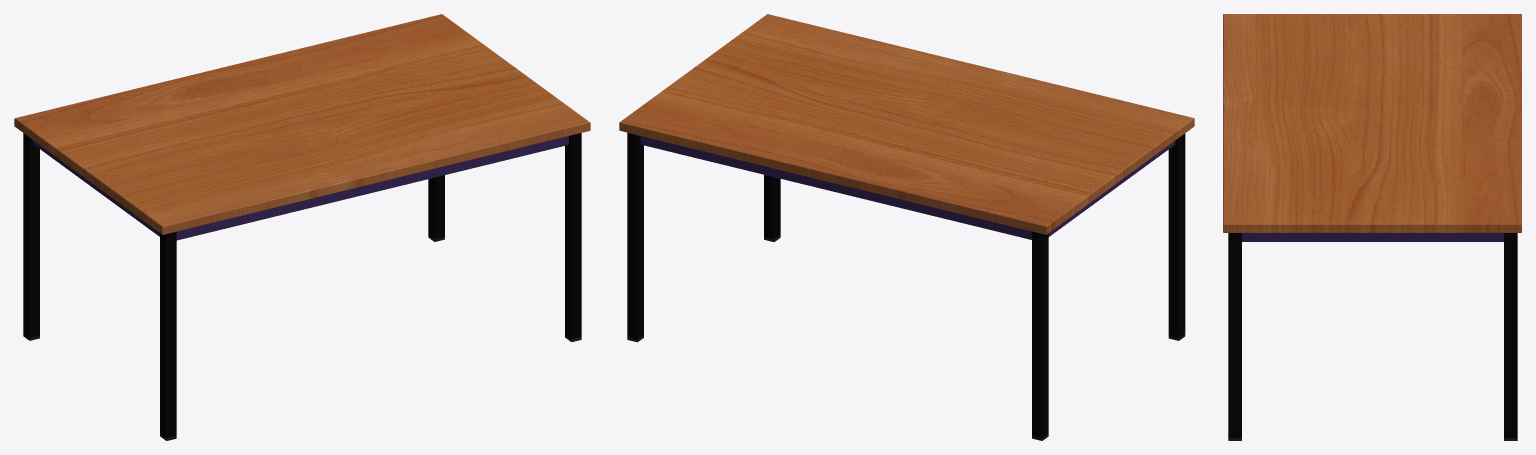
Rendered from woodenTable.FBX.
3 renders of one model, left to right at view 1: azimuth 30°, elevation 25°; view 2: azimuth 150°, elevation 25°; view 3: azimuth 270°, elevation 25°, orthographic.
Parts seen in each view (by area): view 1: Table; view 2: Table; view 3: Table.
Boxes of the visible parts, bbox=[...] form: Table: bbox=[14, 14, 590, 440]; Table: bbox=[619, 14, 1194, 440]; Table: bbox=[1223, 14, 1521, 440].
Size of the model in its own units: 151 by 73.45 by 90.48.
4 materials, 1 textured.
